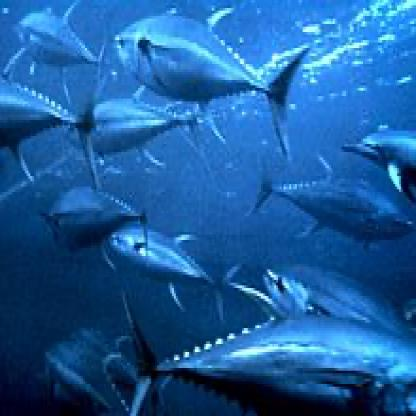tuna: (111, 6, 307, 177), (126, 308, 415, 409), (241, 148, 410, 254), (48, 174, 154, 257)
